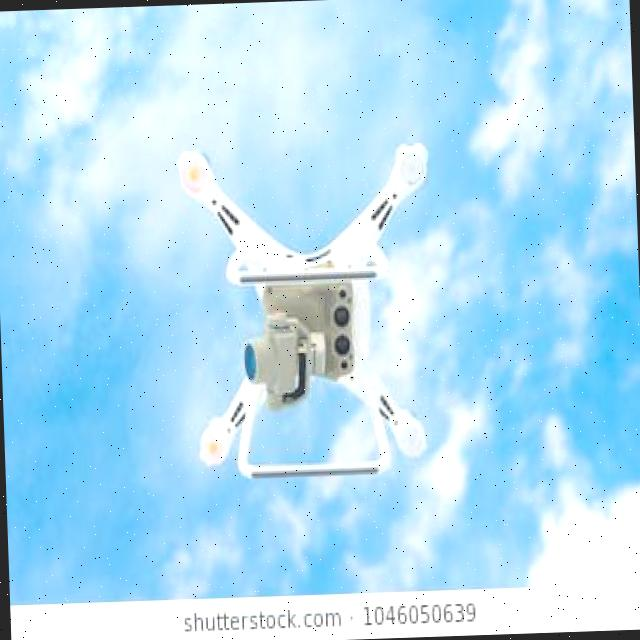drone: (150, 92, 482, 521)
